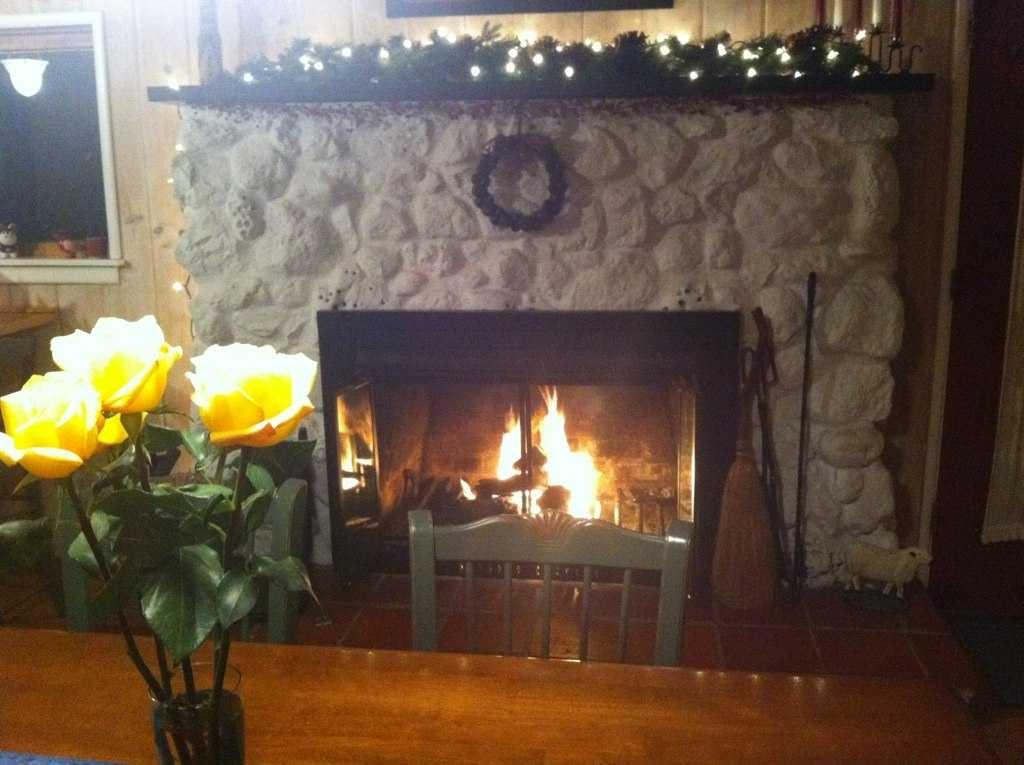fire: (491, 401, 624, 536)
